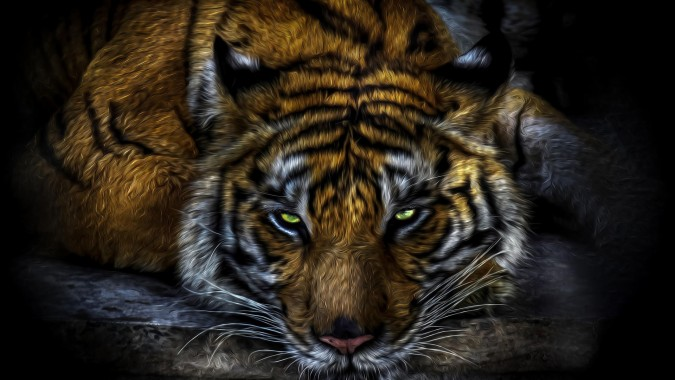Tigrew: (75, 23, 612, 352)
